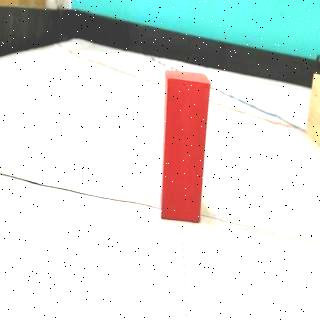redbox: (162, 68, 212, 224)
